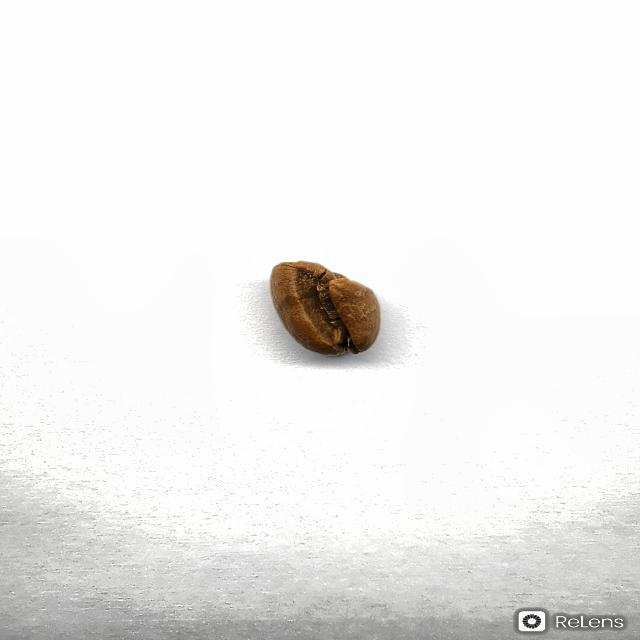Broken: (268, 260, 381, 356)
